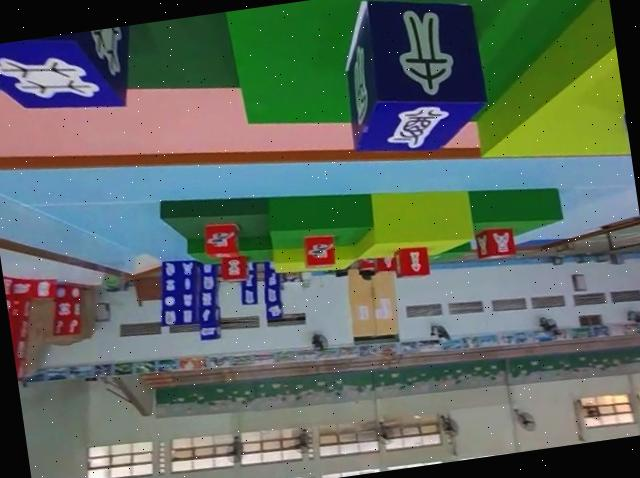R2 Fake Blue: (334, 0, 492, 162)
R2 Real Blue: (0, 24, 142, 124)
